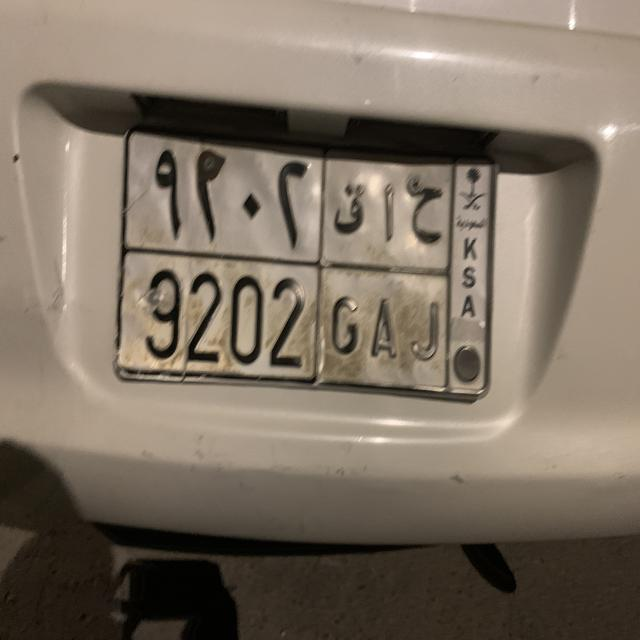license_plate: (111, 117, 501, 407)
